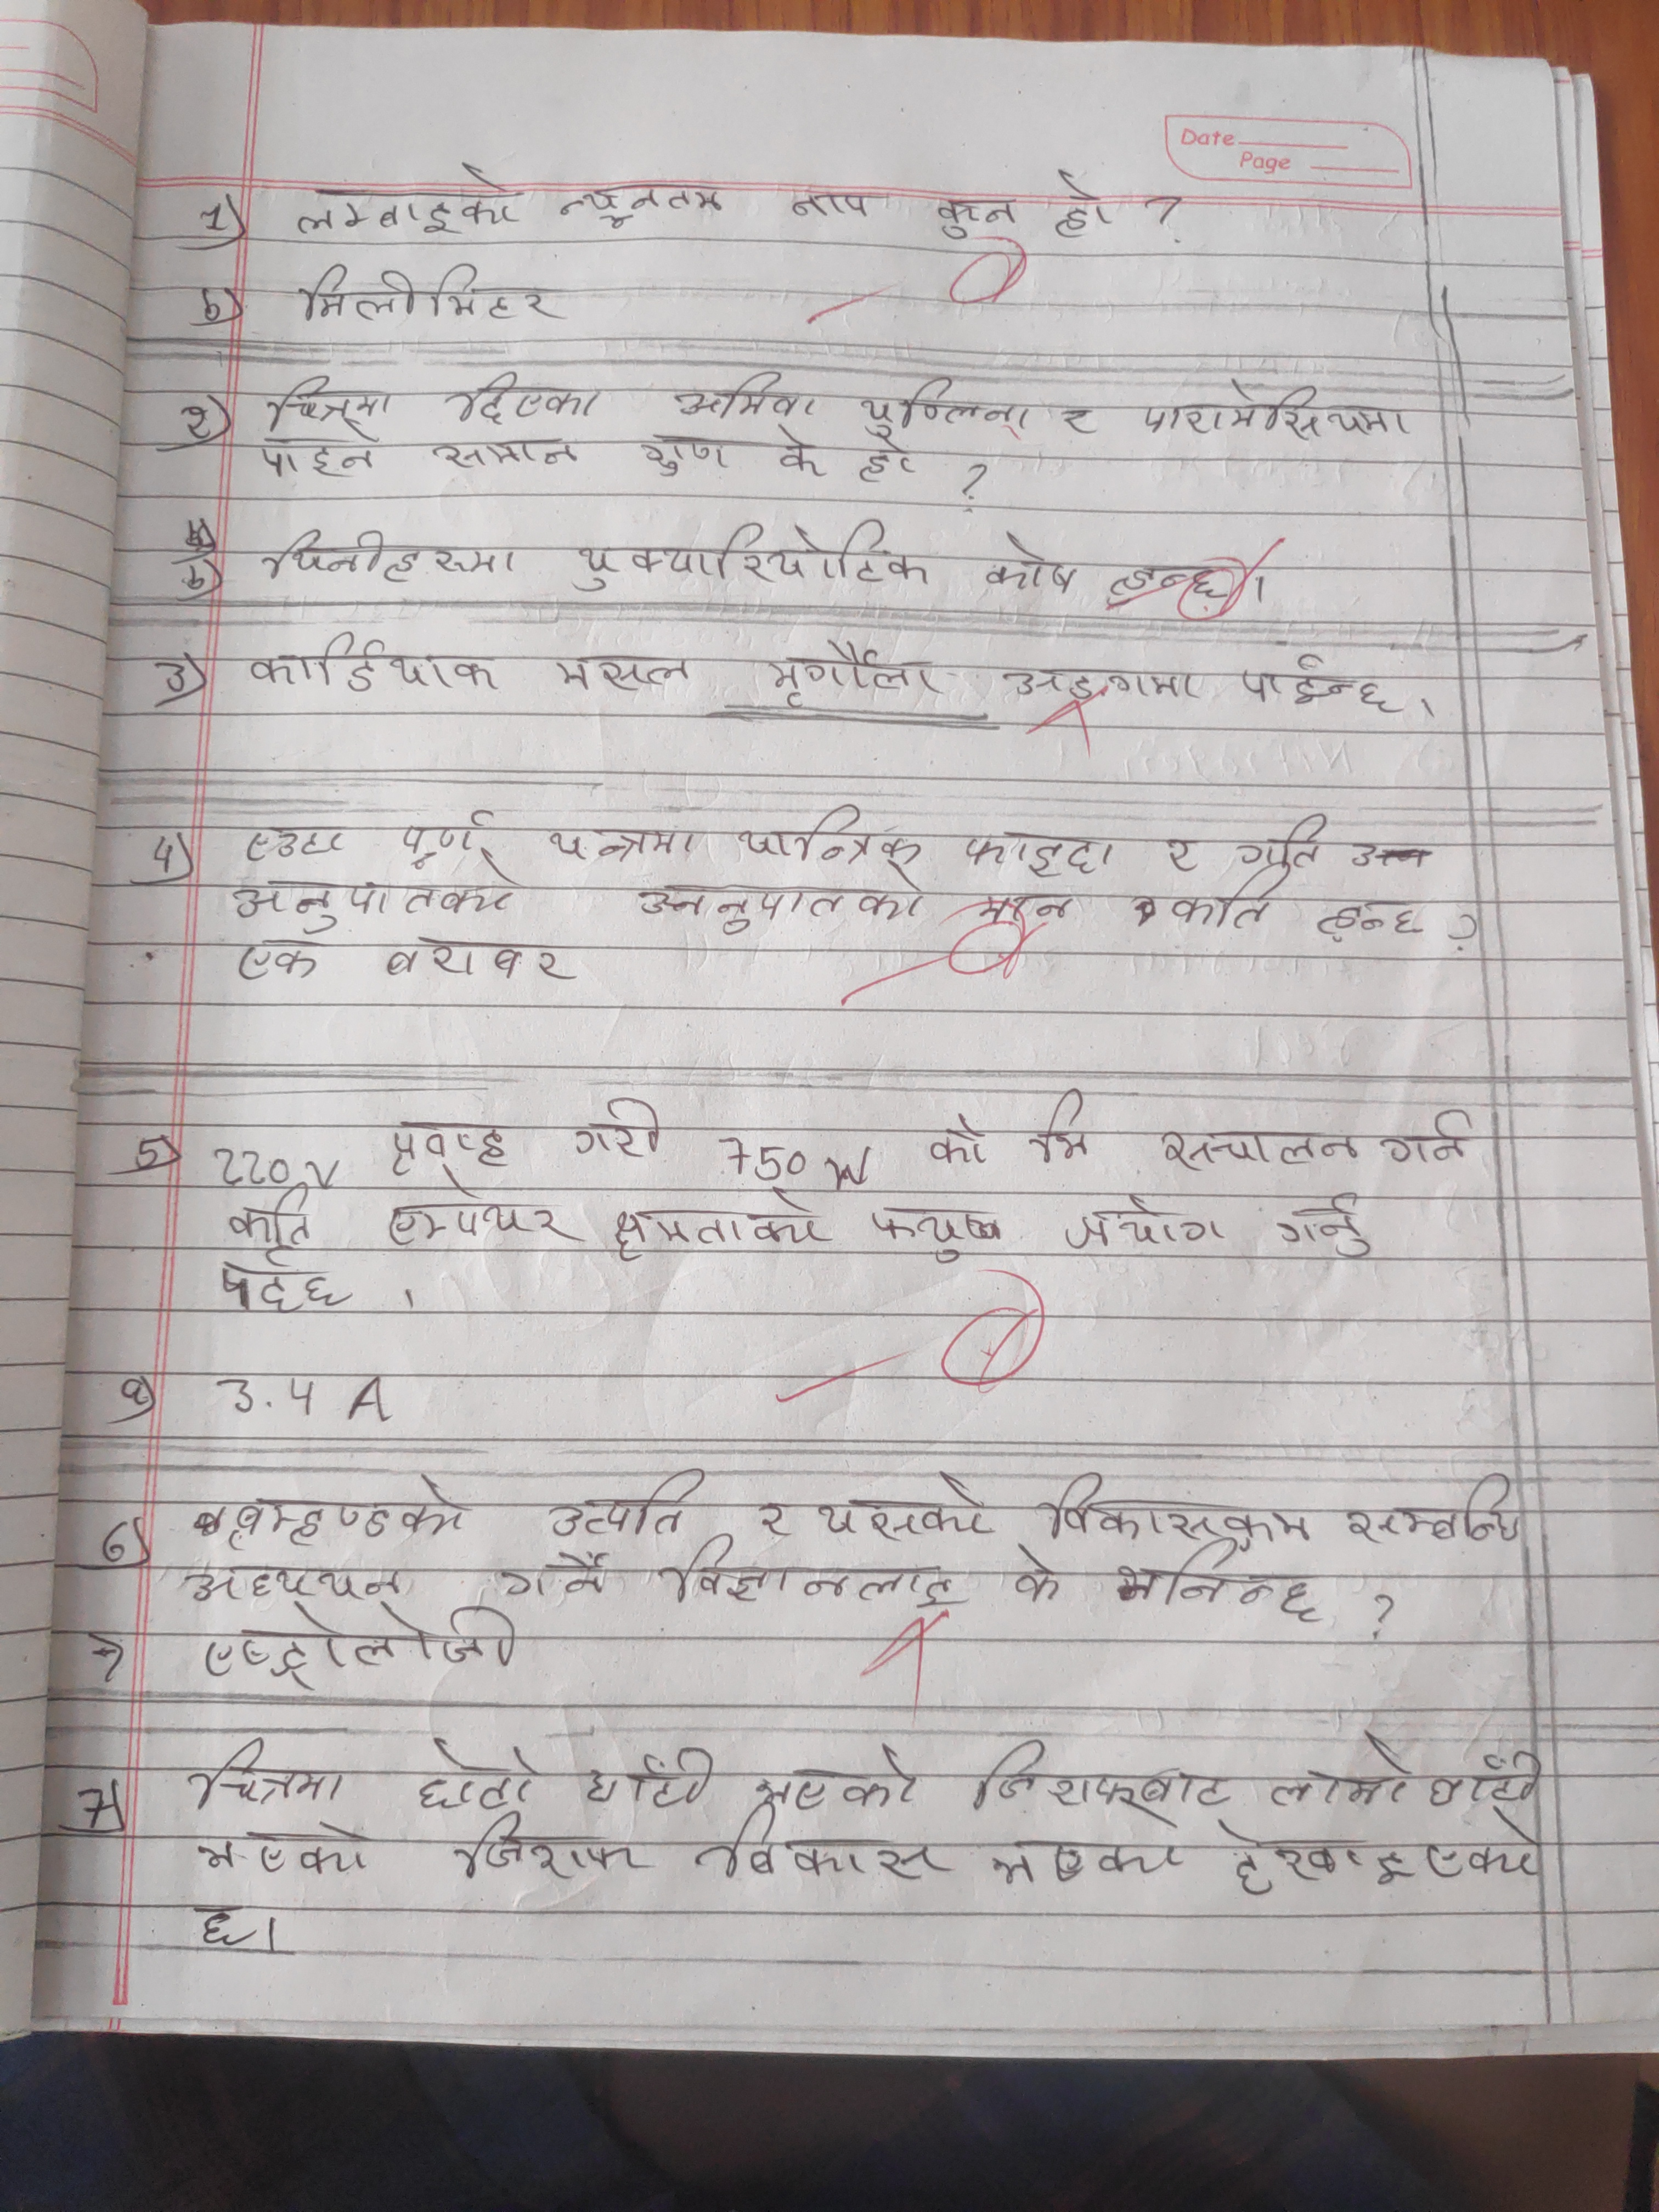text: (200, 1606, 518, 1691), (1218, 1818, 1537, 1902), (566, 521, 931, 594), (974, 1738, 1234, 1822), (667, 1538, 960, 1611), (227, 1474, 472, 1557), (634, 866, 927, 935), (1044, 1475, 1314, 1548), (1108, 1536, 1324, 1623), (293, 261, 572, 327), (293, 158, 525, 235), (608, 1188, 835, 1266), (1138, 378, 1413, 441), (714, 1813, 946, 1886), (232, 880, 511, 934), (251, 636, 502, 695), (1344, 1468, 1523, 1547), (458, 1810, 645, 1885), (270, 531, 523, 585), (383, 1188, 594, 1251), (816, 1472, 995, 1543), (765, 639, 943, 711), (737, 799, 924, 867), (186, 1733, 350, 1808), (753, 1743, 918, 1815), (1270, 1733, 1413, 1811), (547, 1468, 708, 1538), (856, 376, 1033, 439), (410, 1731, 545, 1813), (1061, 1190, 1227, 1256), (1239, 655, 1408, 719), (176, 1562, 406, 1608), (380, 934, 575, 986), (193, 1820, 369, 1878), (992, 1841, 1185, 1893), (1155, 1125, 1363, 1169), (214, 1247, 354, 1310), (586, 1745, 711, 1815), (868, 1204, 1006, 1266), (995, 662, 1199, 704), (453, 369, 605, 425), (554, 181, 730, 228), (667, 369, 824, 421), (964, 824, 1119, 876), (1166, 869, 1286, 932), (387, 1120, 512, 1177), (1274, 1195, 1377, 1264), (267, 374, 394, 428), (254, 425, 380, 479), (1429, 1754, 1544, 1811), (552, 650, 692, 695), (573, 1092, 664, 1160), (1378, 1108, 1473, 1172), (549, 822, 699, 862), (986, 533, 1079, 597), (399, 810, 491, 873), (1236, 810, 1331, 869), (498, 1548, 610, 1599), (1103, 561, 1230, 604), (1314, 899, 1429, 946), (228, 1188, 312, 1249), (1047, 167, 1115, 239), (430, 437, 580, 469), (1033, 1089, 1091, 1169), (247, 820, 347, 866), (786, 181, 878, 228), (932, 192, 1016, 242), (232, 937, 321, 984), (638, 434, 735, 475), (852, 428, 922, 482), (976, 890, 1073, 928), (1007, 1538, 1065, 1602), (769, 418, 826, 479), (925, 1116, 990, 1169), (193, 1900, 251, 1958), (1162, 834, 1202, 874), (755, 1498, 793, 1538), (1061, 401, 1098, 441)
